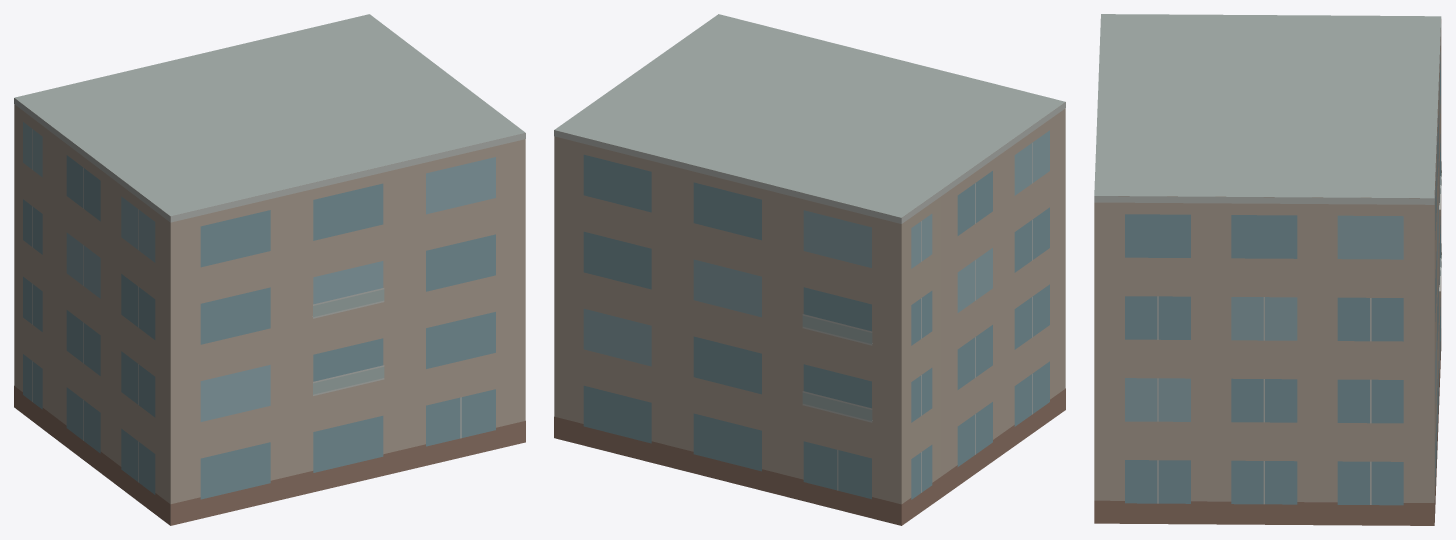
Rendered from survey-upis-32780346.glb.
3 renders of one model, left to right at view 1: azimuth 30°, elevation 25°; view 2: azimuth 150°, elevation 25°; view 3: azimuth 270°, elevation 25°, orthographic. The views are drawn at different scales.
Parts seen in each view (by area): view 1: survey-upis-32780346.tmp; view 2: survey-upis-32780346.tmp; view 3: survey-upis-32780346.tmp.
Boxes of the visible parts, left/top/right/bottom form: survey-upis-32780346.tmp: left=14, top=14, right=525, bottom=525; survey-upis-32780346.tmp: left=554, top=14, right=1065, bottom=525; survey-upis-32780346.tmp: left=1094, top=14, right=1441, bottom=525.
Size of the model in its own units: 14.48 by 12 by 11.54.
